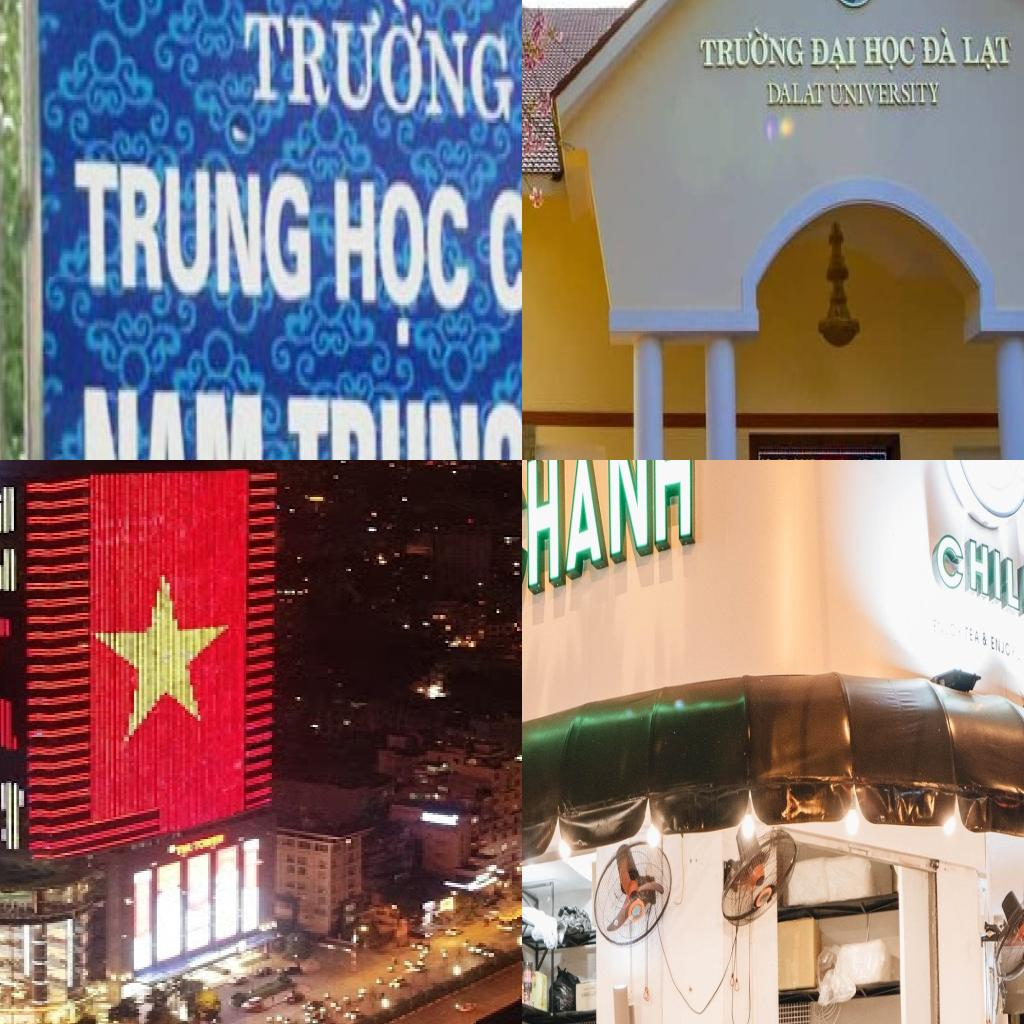text: (74, 156, 314, 308), (244, 0, 517, 130), (522, 460, 697, 618), (334, 177, 470, 354), (285, 392, 522, 460), (82, 384, 267, 460), (933, 514, 1024, 627), (698, 27, 806, 71), (488, 184, 522, 320), (828, 81, 942, 109), (863, 34, 918, 74), (961, 34, 1014, 74), (811, 34, 859, 74), (765, 82, 828, 110), (921, 25, 960, 68), (994, 632, 1017, 661), (968, 625, 986, 647), (986, 629, 992, 648)
